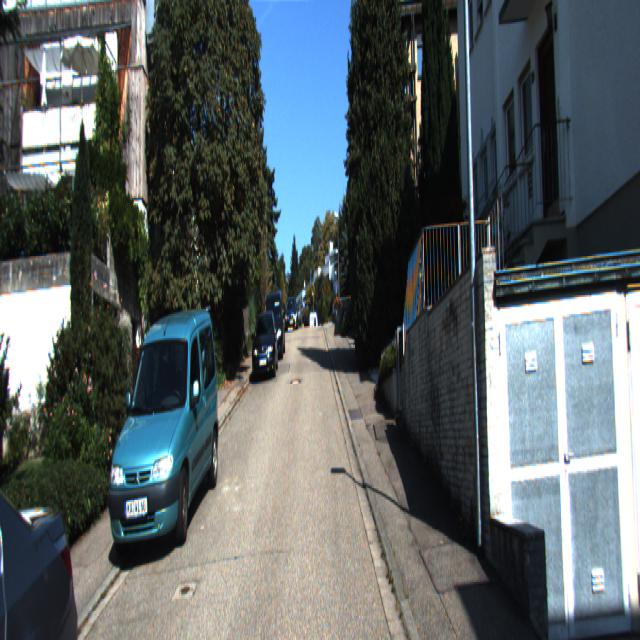Car: (99, 312, 222, 570), (0, 397, 98, 639), (252, 308, 278, 376), (262, 289, 285, 361)
